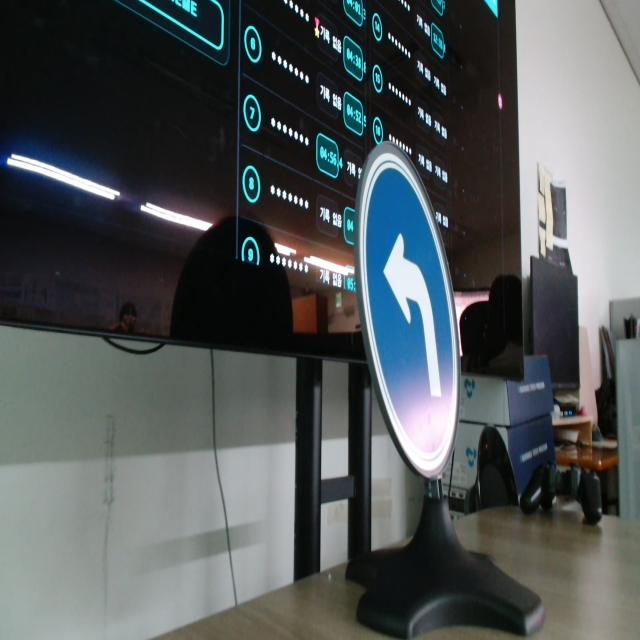left_direction: (350, 137, 466, 476)
